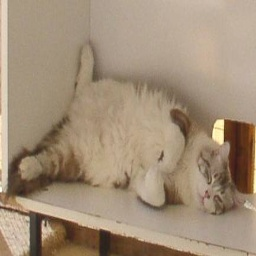cat: (22, 39, 241, 222)
